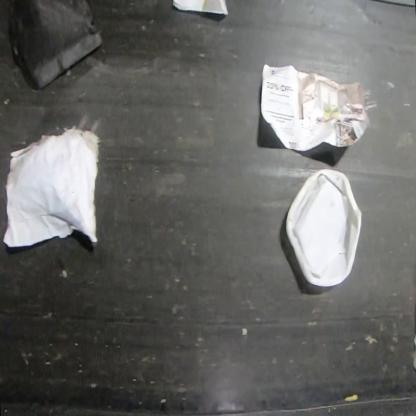rigid_plastic: (285, 169, 362, 288), (8, 0, 102, 90)
